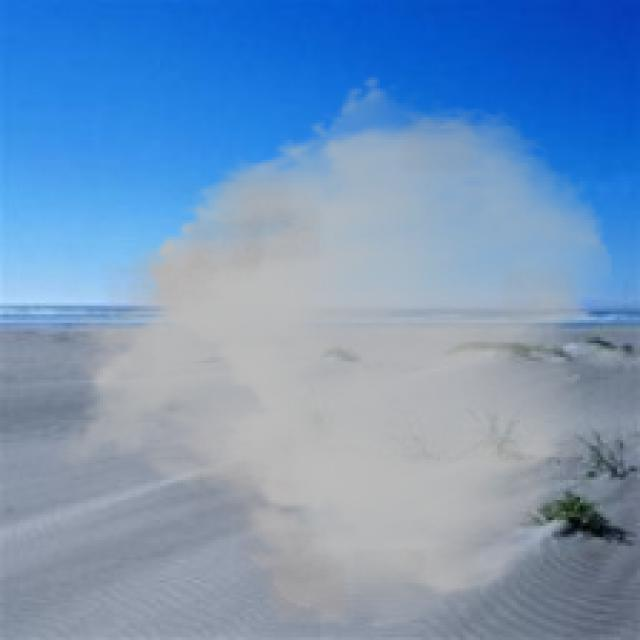smoke: (52, 75, 617, 634)
